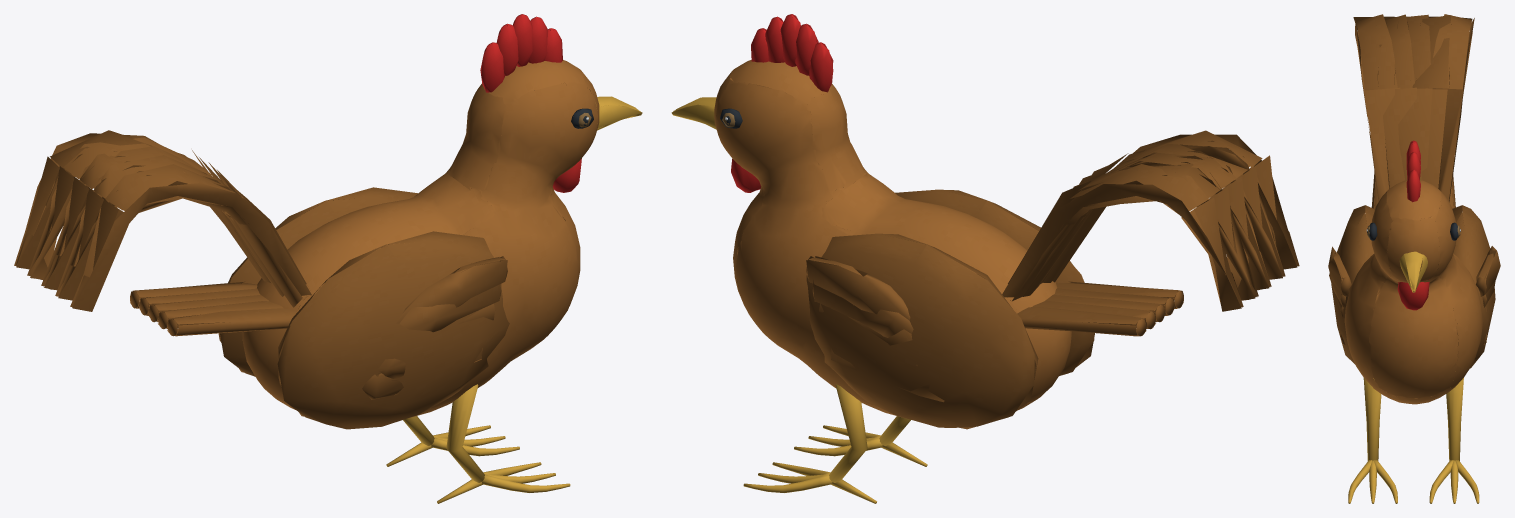
File: rooster.glb
The picture shows the model from 3 angles, left to right: view 1: azimuth 30°, elevation 25°; view 2: azimuth 150°, elevation 25°; view 3: azimuth 270°, elevation 25°; orthographic projection. The views are drawn at different scales.
Visible parts, largest first — view 1: Articulated bird leg; view 2: Articulated bird leg; view 3: Articulated bird leg.
Boxes of the visible parts, x1,y1,x2,y2 form: Articulated bird leg: [14, 14, 642, 503]; Articulated bird leg: [671, 14, 1299, 503]; Articulated bird leg: [1328, 14, 1500, 503].
Bounding box in the file's own units: 0.845 × 0.6006 × 0.261.
Materials: 7 (7 with a texture image).
